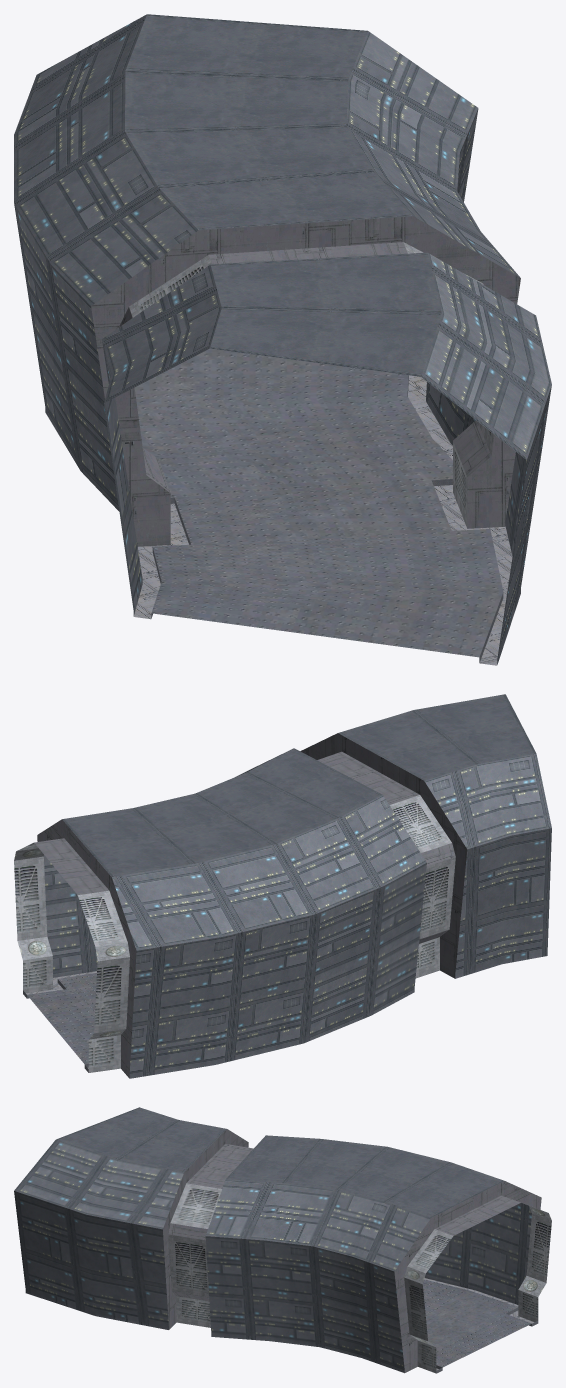
File: mun_all_starport_s01_u01_r6_foyer6_mesh_r6.fbx
3 views of the same model, one above another, from view 1: azimuth 30°, elevation 25°; view 2: azimuth 150°, elevation 25°; view 3: azimuth 270°, elevation 25° (orthographic). The views are drawn at different scales.
Visible parts, largest first — view 1: mesh_node; view 2: mesh_node; view 3: mesh_node.
Part boxes in pixels (x1=…): mesh_node: x1=14, y1=14, x2=551, y2=665; mesh_node: x1=14, y1=694, x2=551, y2=1078; mesh_node: x1=14, y1=1107, x2=551, y2=1373.
Size of the model in its own units: 10.22 by 4.6 by 15.78.
